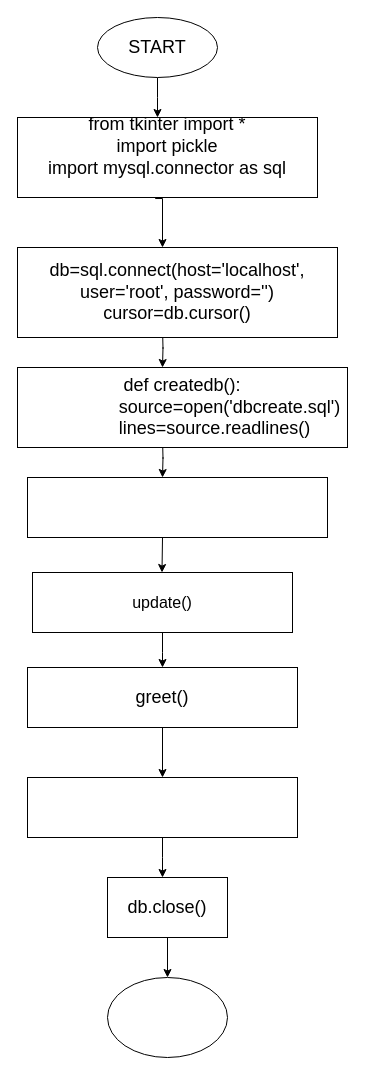
The diagram is 365 pixels wide and 1075 high, and some of its shapes have lost their labels. The centre of each missing label's shape, as x and y in pixels:
for line in lines: cursor.execute(line): (x=177, y=507)
mainloop(): (x=162, y=807)
STOP: (x=167, y=1017)
